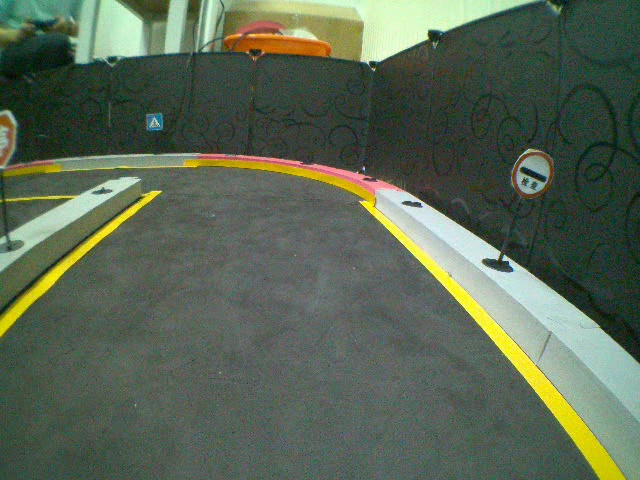Check: (510, 147, 554, 198)
crossing: (145, 110, 164, 133)
